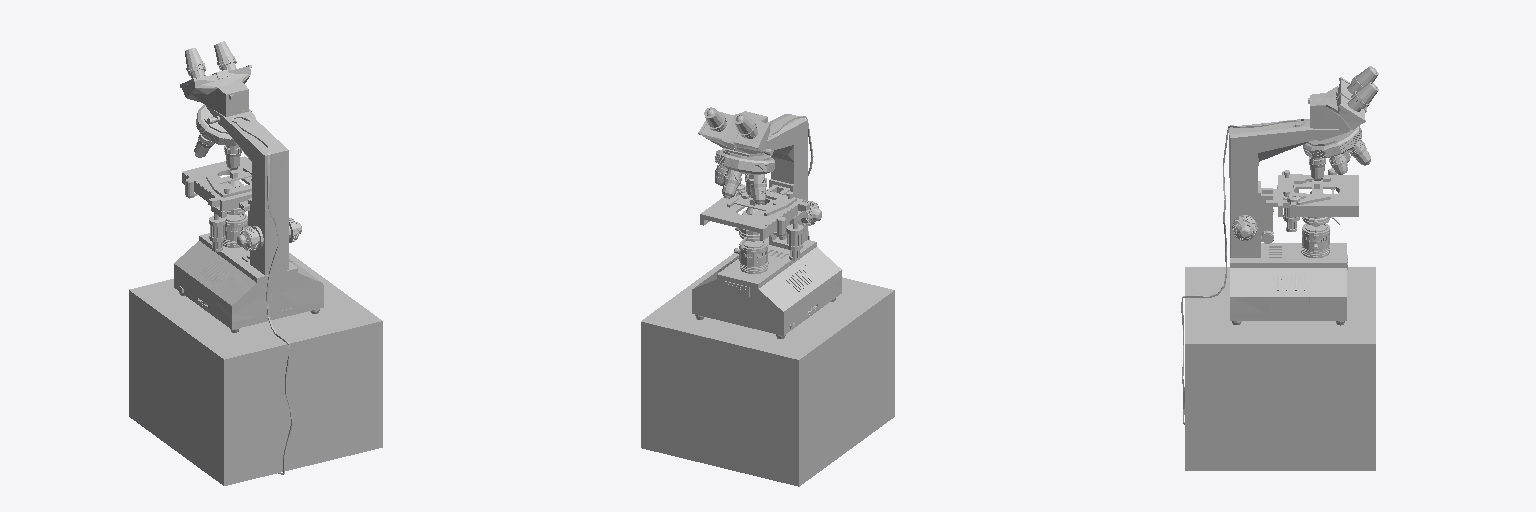
The picture shows the model from 3 angles: view 1: azimuth 30°, elevation 25°; view 2: azimuth 150°, elevation 25°; view 3: azimuth 270°, elevation 25°; orthographic projection.
Visible parts, largest first — view 1: group[number redacted], group[number redacted], group[number redacted], group[number redacted], group[number redacted], group[number redacted], group[number redacted], group[number redacted], group[number redacted]; view 2: group[number redacted], group[number redacted], group[number redacted], group[number redacted], group[number redacted], group[number redacted], group[number redacted], group[number redacted]; view 3: group[number redacted], group[number redacted], group[number redacted], group[number redacted], group[number redacted], group[number redacted], group[number redacted], group[number redacted], group[number redacted], group[number redacted].
Part boxes in pixels (left/top/right/bottom): group[number redacted]: left=129, top=253, right=382, bottom=485; group[number redacted]: left=174, top=233, right=323, bottom=332; group[number redacted]: left=206, top=105, right=288, bottom=275; group[number redacted]: left=180, top=41, right=251, bottom=116; group[number redacted]: left=194, top=104, right=255, bottom=169; group[number redacted]: left=232, top=116, right=292, bottom=474; group[number redacted]: left=182, top=156, right=251, bottom=184; group[number redacted]: left=223, top=213, right=247, bottom=247; group[number redacted]: left=237, top=226, right=263, bottom=250; group[number redacted]: left=641, top=253, right=894, bottom=486; group[number redacted]: left=692, top=237, right=841, bottom=338; group[number redacted]: left=725, top=114, right=807, bottom=249; group[number redacted]: left=698, top=107, right=770, bottom=153; group[number redacted]: left=715, top=148, right=774, bottom=204; group[number redacted]: left=700, top=206, right=774, bottom=239; group[number redacted]: left=734, top=240, right=768, bottom=273; group[number redacted]: left=727, top=187, right=796, bottom=215; group[number redacted]: left=1185, top=267, right=1375, bottom=470; group[number redacted]: left=1230, top=243, right=1347, bottom=325; group[number redacted]: left=1229, top=119, right=1349, bottom=257; group[number redacted]: left=1308, top=66, right=1378, bottom=129; group[number redacted]: left=1303, top=126, right=1370, bottom=180; group[number redacted]: left=1336, top=175, right=1358, bottom=216; group[number redacted]: left=1301, top=224, right=1329, bottom=257; group[number redacted]: left=1181, top=119, right=1305, bottom=424; group[number redacted]: left=1296, top=194, right=1335, bottom=216; group[number redacted]: left=1283, top=174, right=1330, bottom=204.
Size of the model in its own units: 3.46 by 7.49 by 3.73.